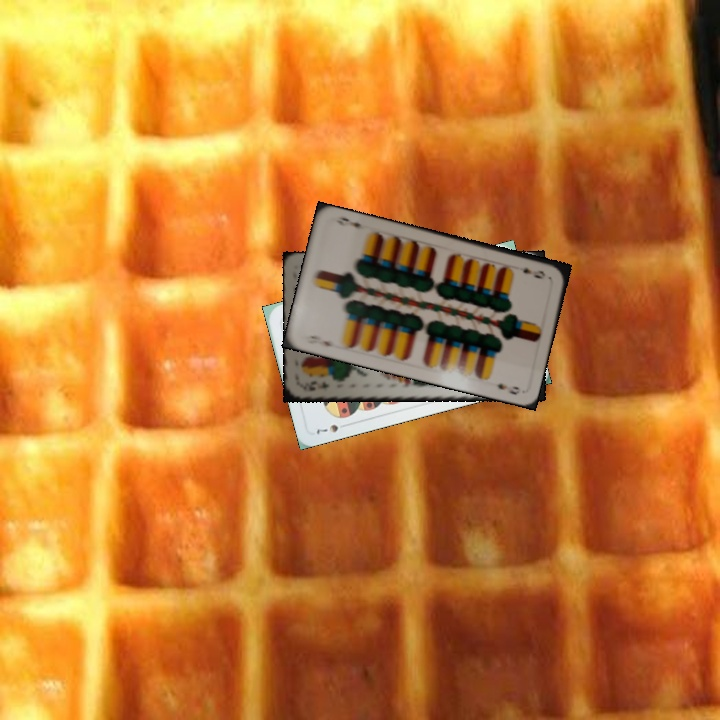E9: (301, 331, 339, 351), (519, 263, 548, 282)
EK: (303, 377, 332, 392)
S7: (312, 420, 351, 437)
